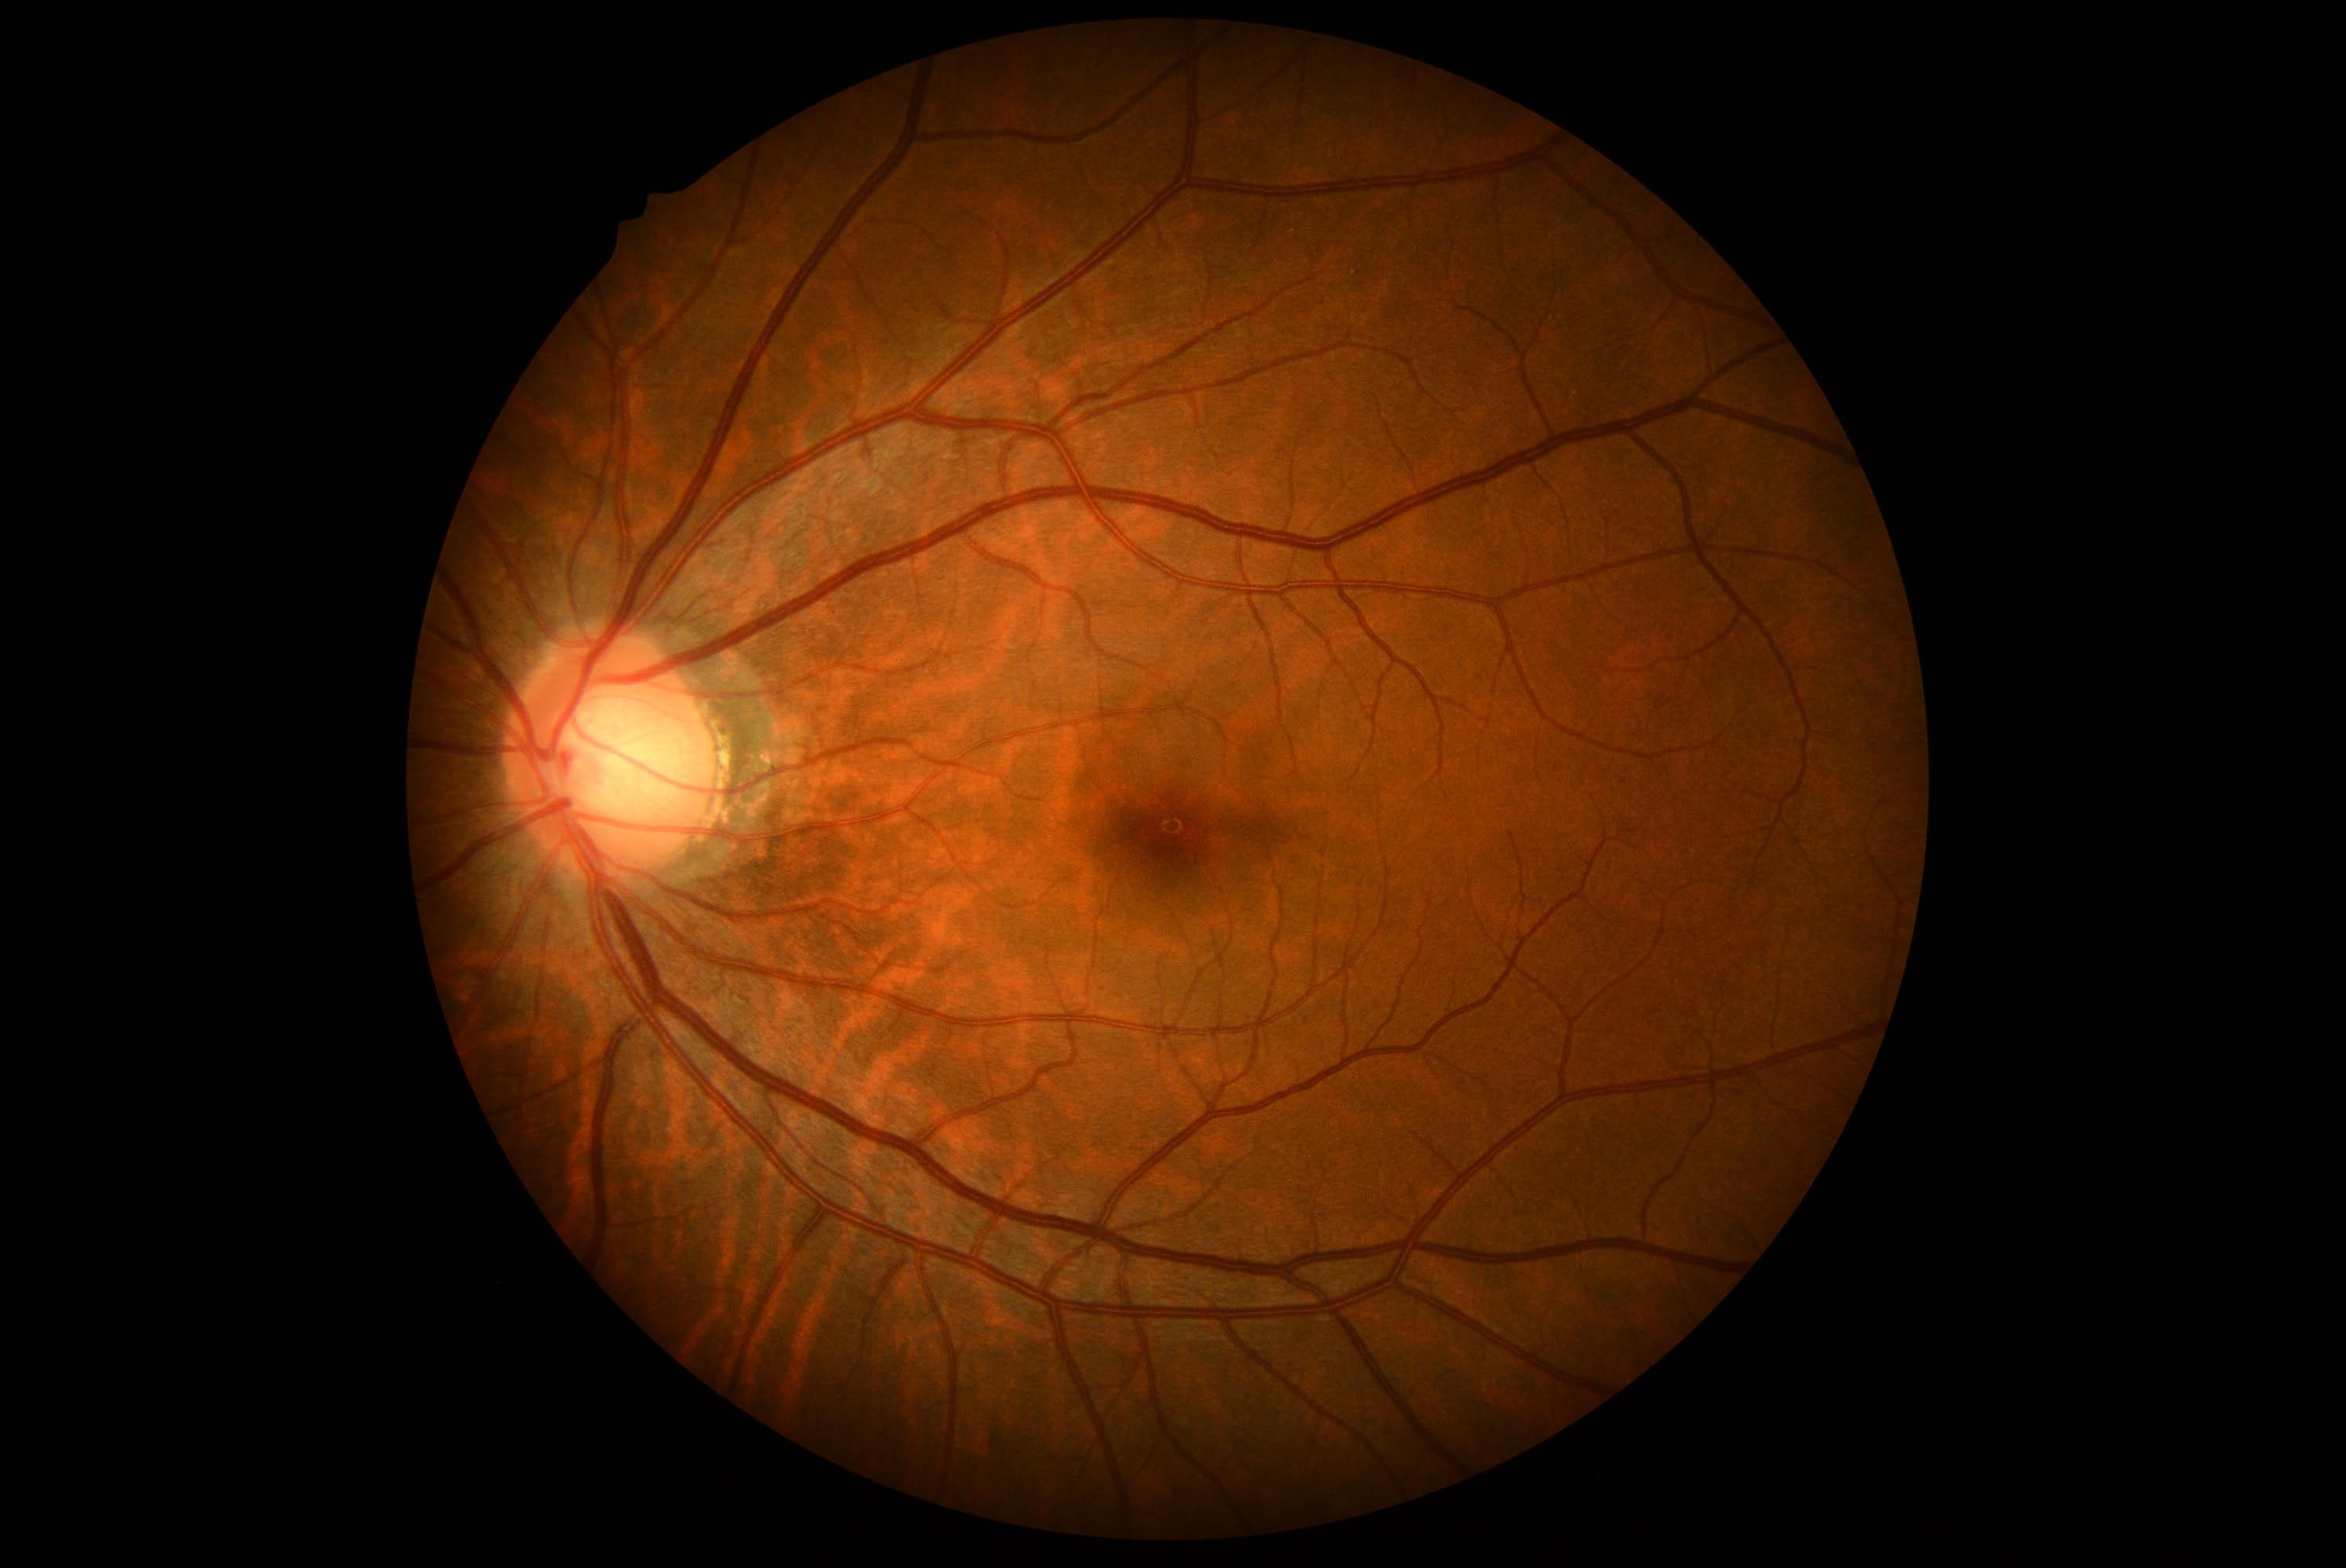Fovea: (1092, 747, 1258, 908)
